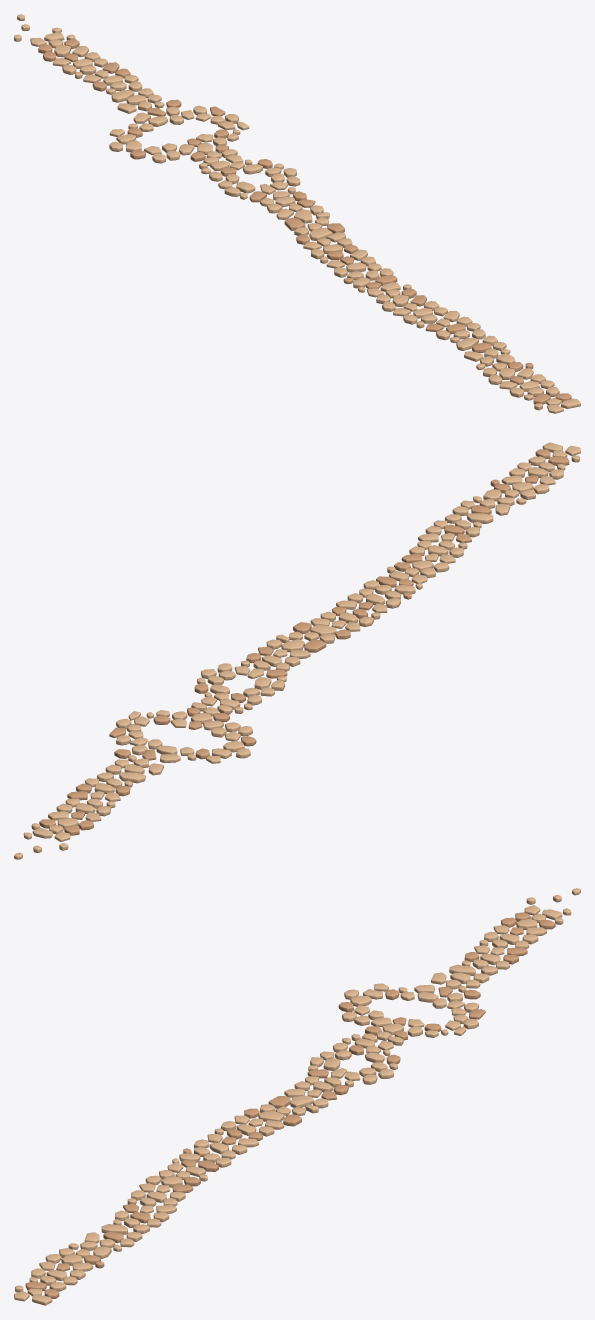
The model's file is rocks on the ground.fbx.
3 views of the same model, one above another, from view 1: azimuth 30°, elevation 25°; view 2: azimuth 150°, elevation 25°; view 3: azimuth 330°, elevation 25° (orthographic). The views are drawn at different scales.
Visible parts, largest first — view 1: Cube.050; view 2: Cube.050; view 3: Cube.050.
Part boxes in pixels (box(x1,y1,x2,y2)): Cube.050: box(14, 14, 580, 413); Cube.050: box(14, 442, 580, 859); Cube.050: box(14, 888, 580, 1305).
Size of the model in its own units: 617 by 21.02 by 4539.
